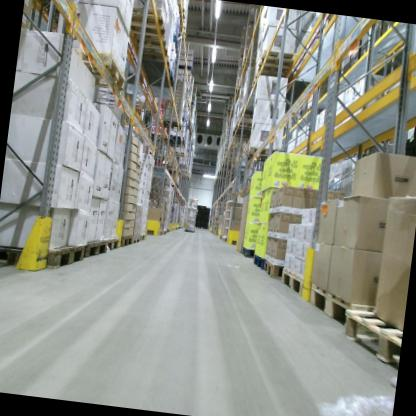pallet: (304, 283, 403, 341), (335, 303, 405, 367), (0, 231, 84, 279), (69, 40, 133, 90), (121, 2, 169, 39), (118, 28, 171, 55), (127, 47, 175, 75), (132, 62, 175, 92), (277, 264, 309, 299), (257, 49, 294, 79), (246, 141, 288, 165), (260, 253, 285, 283), (79, 233, 107, 259), (163, 132, 187, 148), (100, 233, 119, 253), (231, 125, 256, 140), (233, 120, 256, 134), (250, 251, 266, 269), (119, 231, 133, 250), (239, 245, 254, 262), (161, 119, 183, 129), (249, 72, 260, 90), (171, 148, 187, 159), (241, 107, 257, 117), (131, 232, 141, 247), (139, 230, 145, 247), (156, 227, 163, 239), (162, 227, 167, 236)
